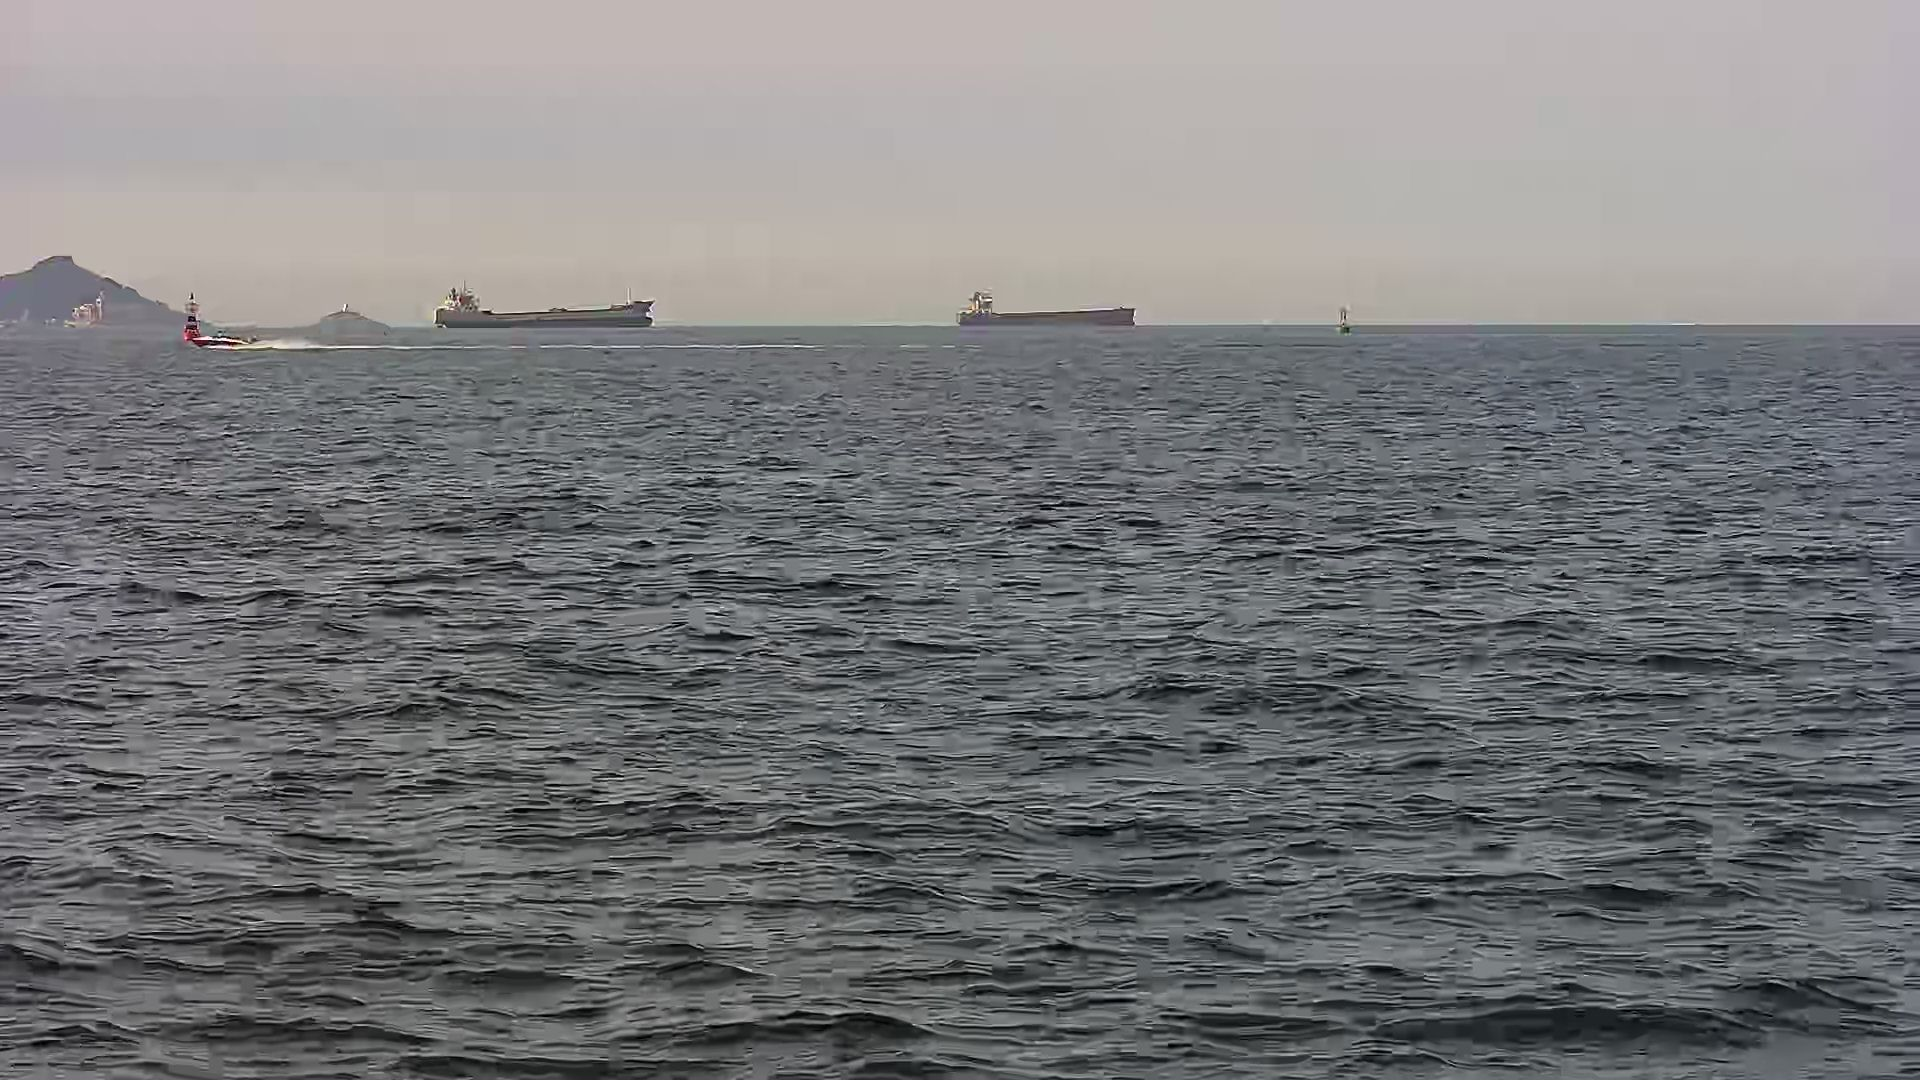boat: (191, 324, 276, 363)
buoy: (1328, 295, 1364, 342)
rock: (297, 281, 392, 352)
ship: (419, 273, 657, 335), (945, 280, 1141, 342)
